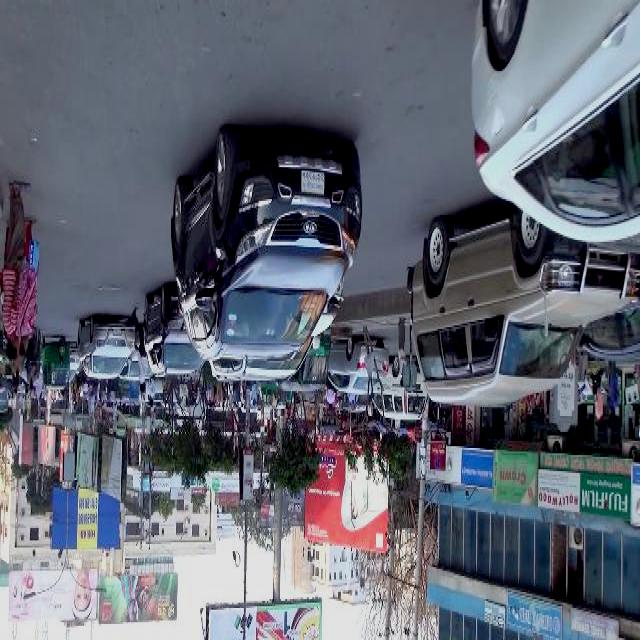black: (171, 126, 361, 360), (141, 289, 205, 375)
silver: (76, 318, 140, 380)
white: (473, 0, 640, 247)
